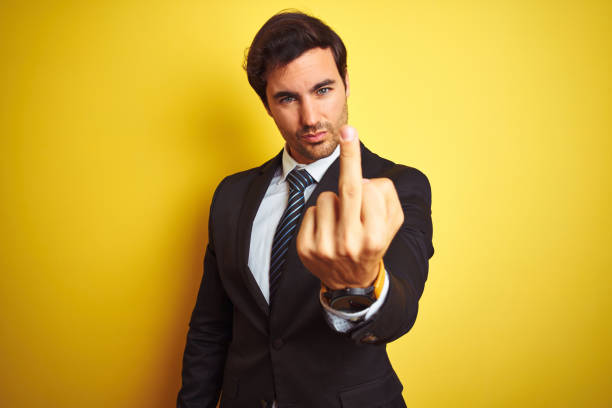insulting_gesture: (299, 126, 406, 279)
